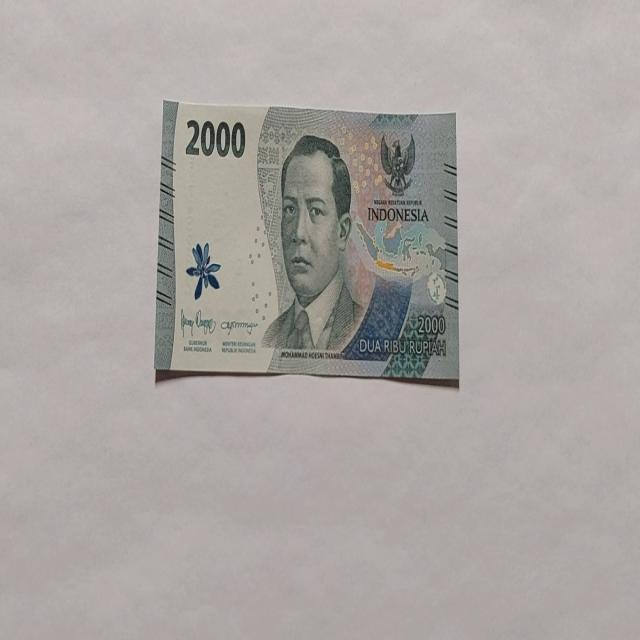dua ribu rupiah: (154, 98, 459, 384), (260, 134, 365, 356)
